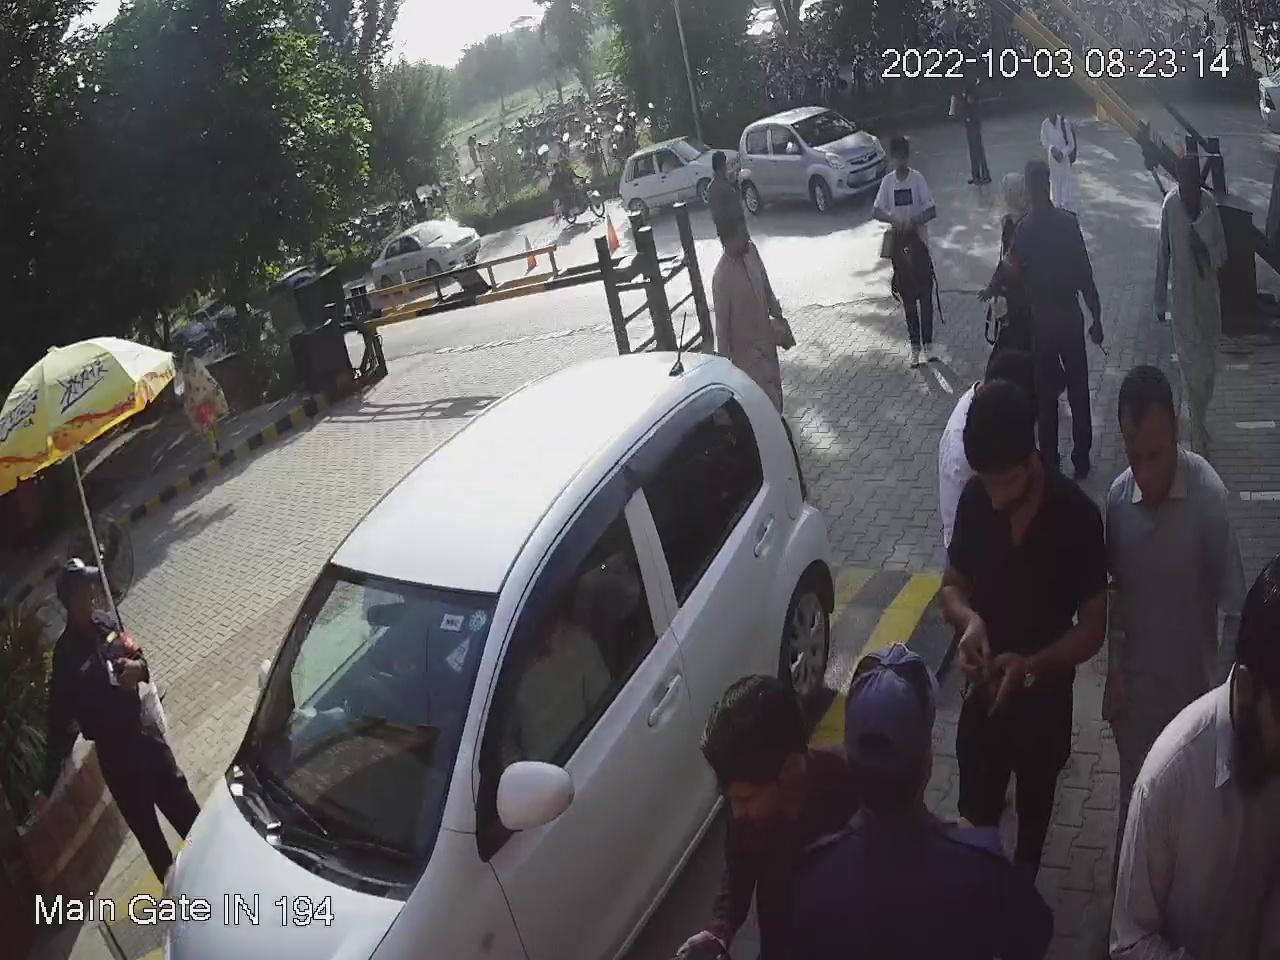windshield: (218, 555, 513, 897)
